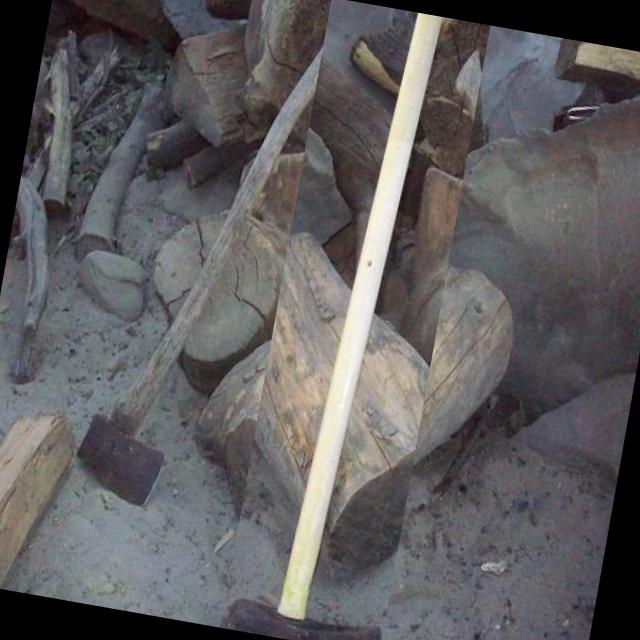Axe: (220, 12, 441, 640), (78, 27, 345, 505)
